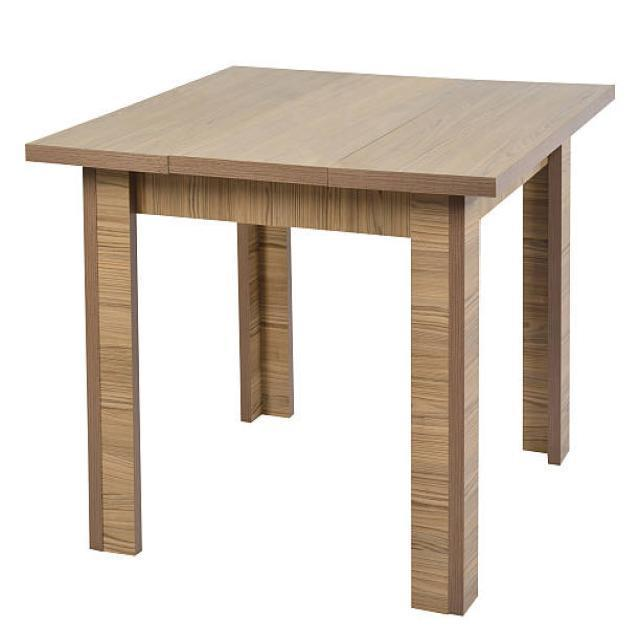table: (24, 62, 615, 616)
